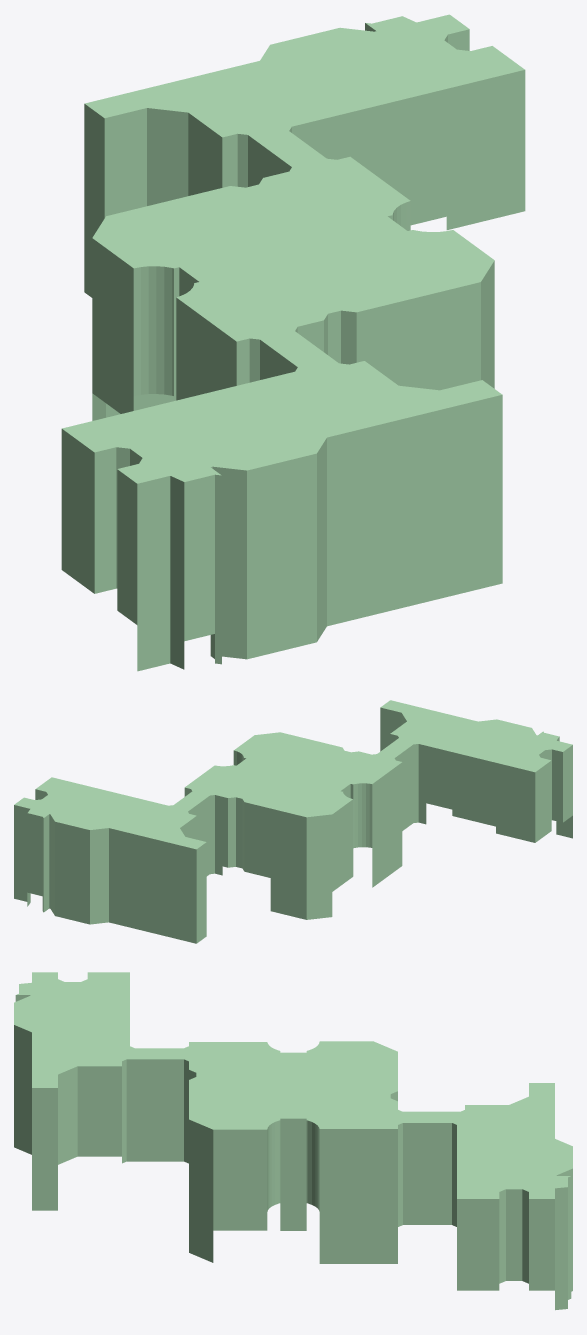
Rendered from cp_process_outside_clipbrushes.fbx.
3 views of the same model, one above another, from view 1: azimuth 30°, elevation 25°; view 2: azimuth 150°, elevation 25°; view 3: azimuth 270°, elevation 25° (orthographic). The views are drawn at different scales.
Parts seen in each view (by area): view 1: _colonly; view 2: _colonly; view 3: _colonly.
Part boxes in pixels (<box>): _colonly: <box>61,14,525,671</box>; _colonly: <box>14,700,572,943</box>; _colonly: <box>14,972,572,1310</box>.
Bounding box in the file's own units: 9997 × 2774 × 10424.
